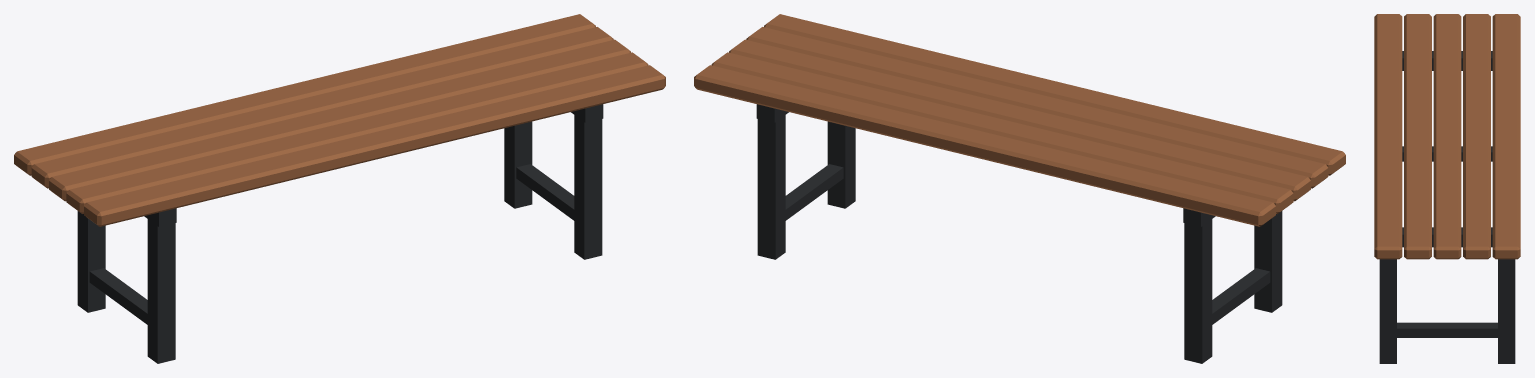
The model's file is banco_praca_simples.glb.
3 views of the same model, side by side, from view 1: azimuth 30°, elevation 25°; view 2: azimuth 150°, elevation 25°; view 3: azimuth 270°, elevation 25° (orthographic). The views are drawn at different scales.
Visible parts, largest first — view 1: banco_praca_simples; view 2: banco_praca_simples; view 3: banco_praca_simples.
Boxes of the visible parts, x1,y1,x2,y2 form: banco_praca_simples: [14, 14, 665, 363]; banco_praca_simples: [694, 14, 1345, 363]; banco_praca_simples: [1374, 14, 1520, 363].
Size of the model in its own units: 1.6 by 0.45 by 0.42.
